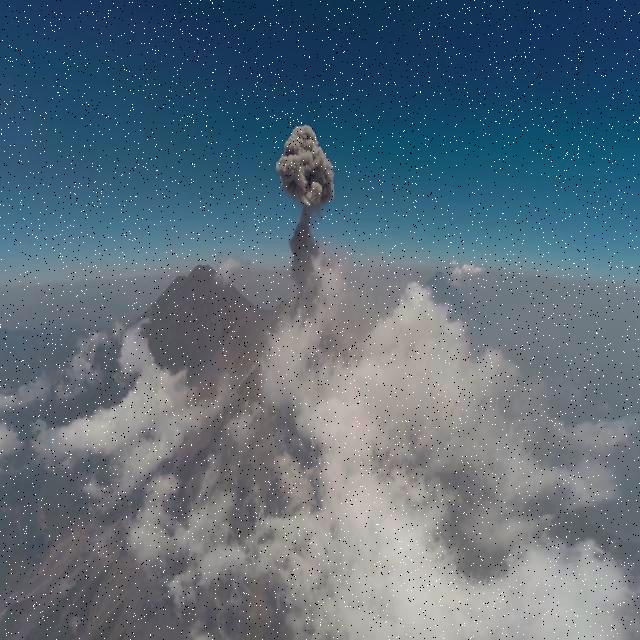Plume: (280, 128, 334, 300)
